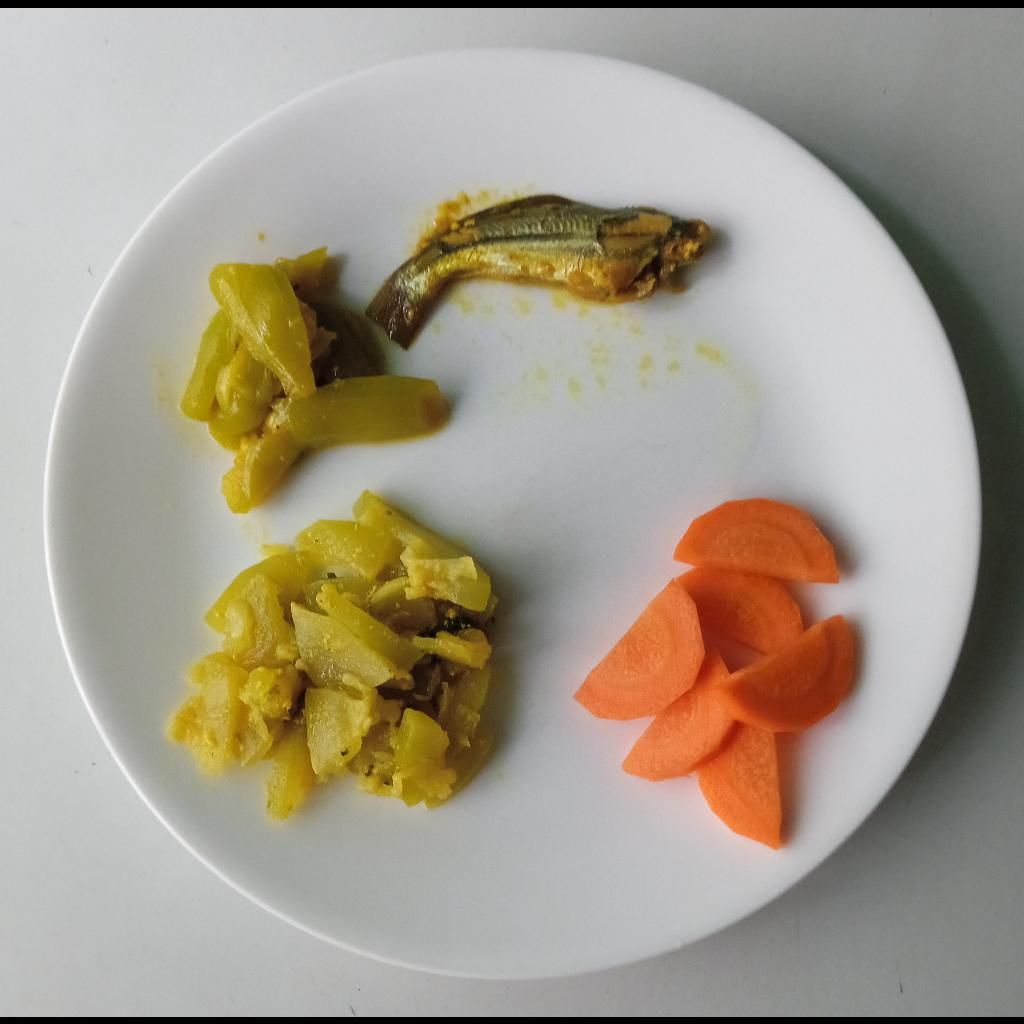carrot: (571, 497, 860, 851)
fish: (365, 193, 709, 350)
lau: (158, 491, 498, 828)
potol: (178, 243, 445, 512)
